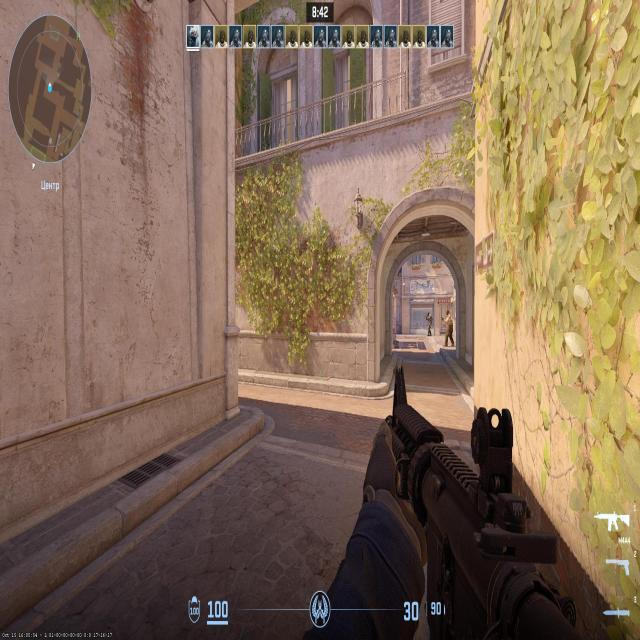CT: (428, 312, 431, 337)
CT_heat: (428, 314, 430, 317)
T: (445, 312, 451, 344)
T_heat: (446, 314, 449, 318)
